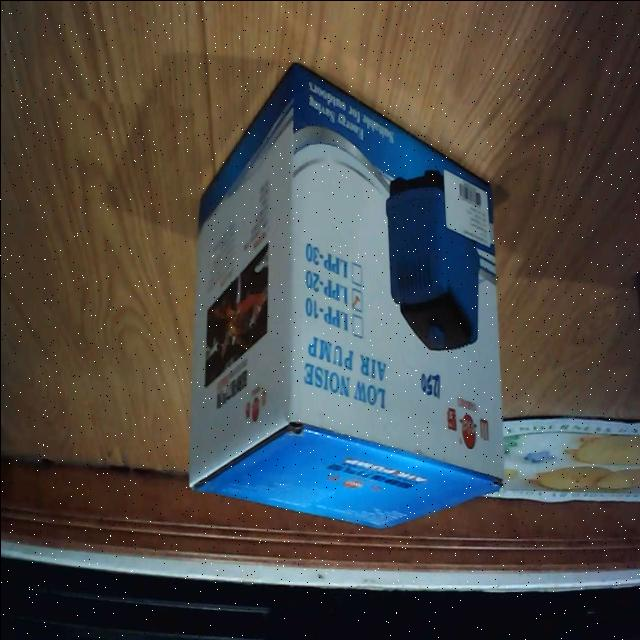YAMANO_LPP_20: (178, 42, 516, 548)
